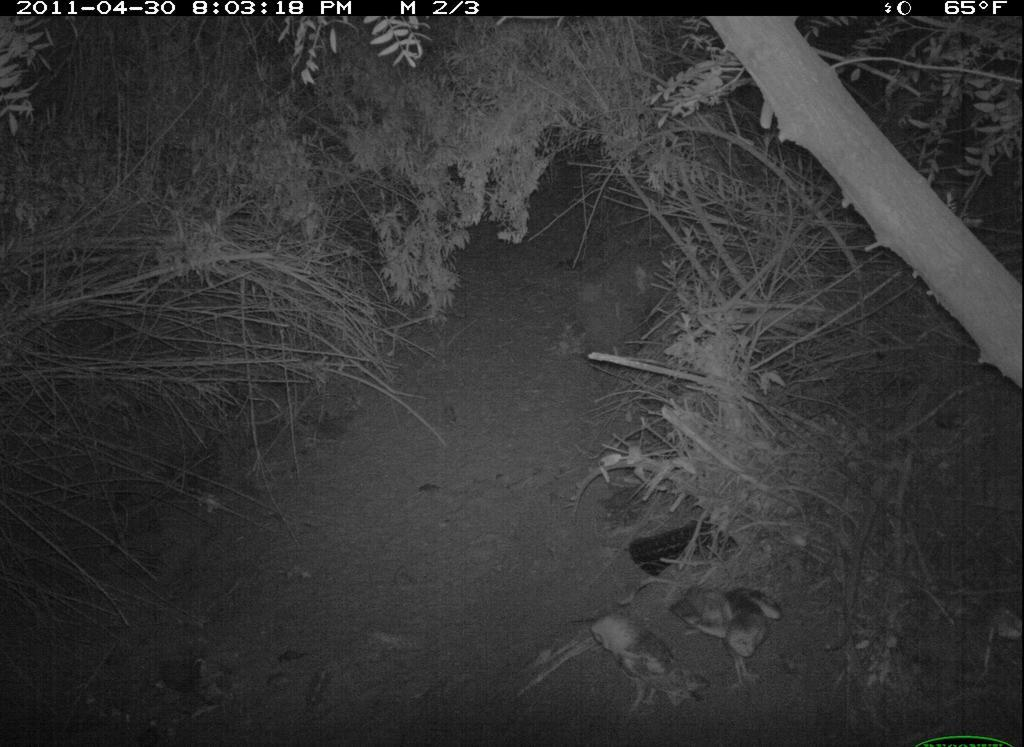bird: (581, 604, 713, 719), (668, 578, 791, 700)
